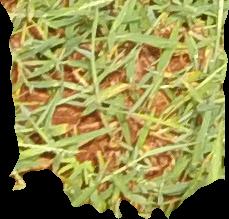grass: (1, 1, 227, 217)
